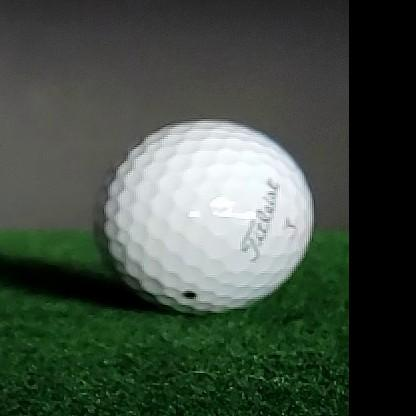golfball: (97, 119, 314, 313)
